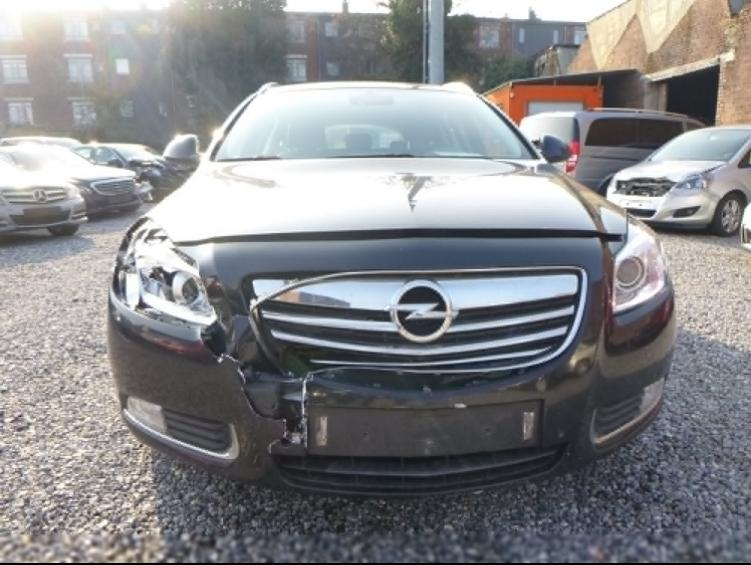Broken part: (107, 282, 676, 494), (233, 266, 586, 389), (174, 225, 628, 250)
Cracked: (111, 217, 235, 355)
Missing part: (306, 402, 543, 458)
